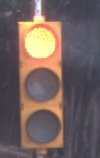Red: (14, 19, 65, 152)
